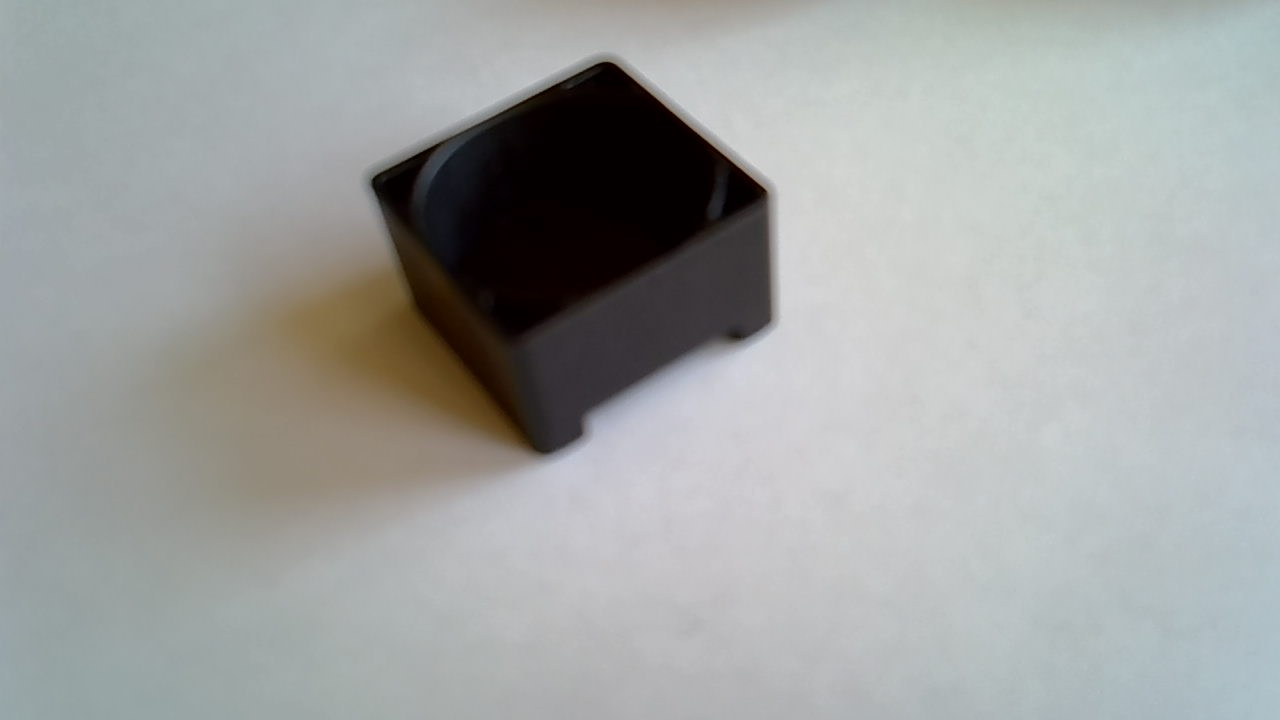Behaelter: (370, 57, 777, 454)
